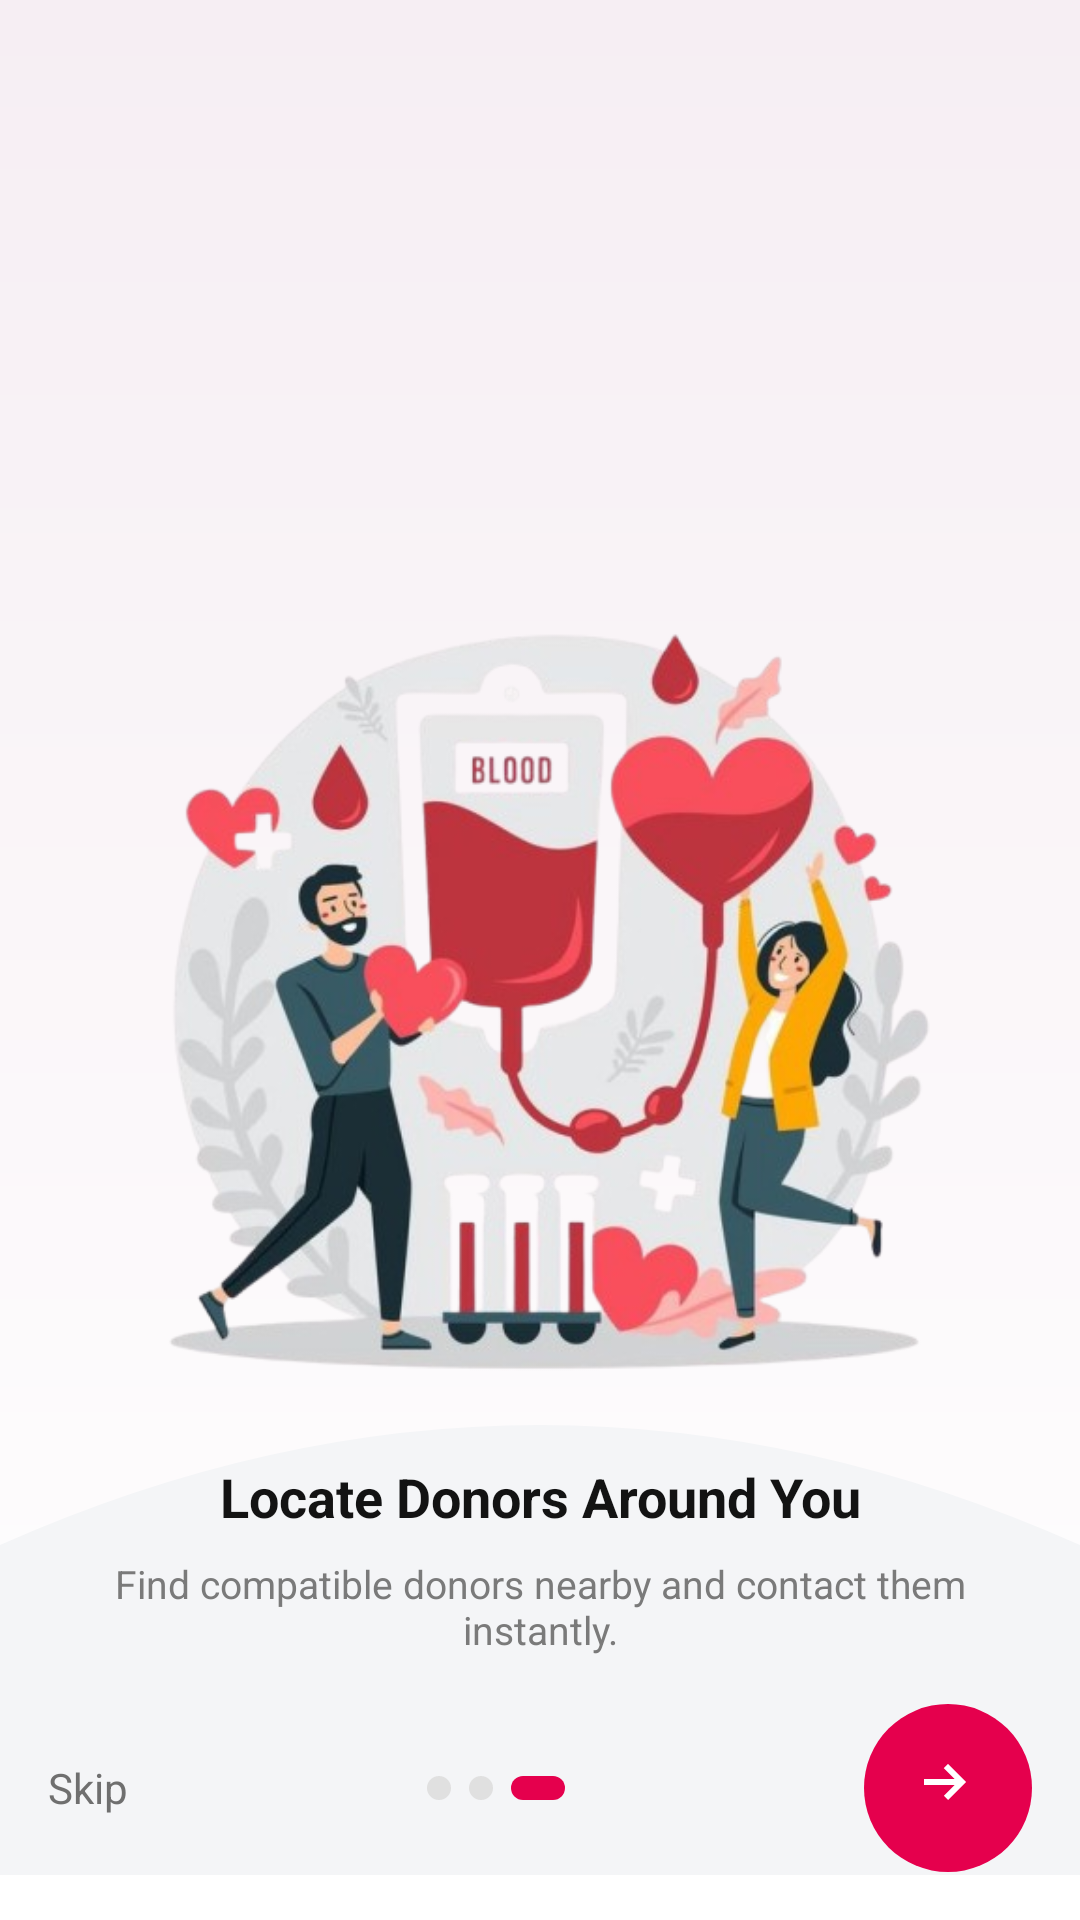

Where icons sit on this 1080×1920 app screen, as {"x1": x1, "y1": y1, "x2": x2, "y2": y2}:
arrow right: {"x1": 864, "y1": 1704, "x2": 1032, "y2": 1872}
